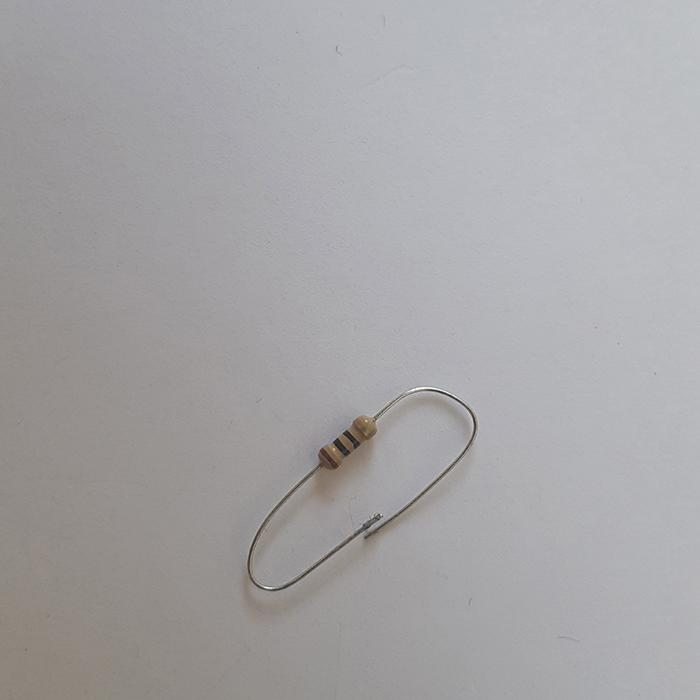resistor: (317, 413, 378, 472)
